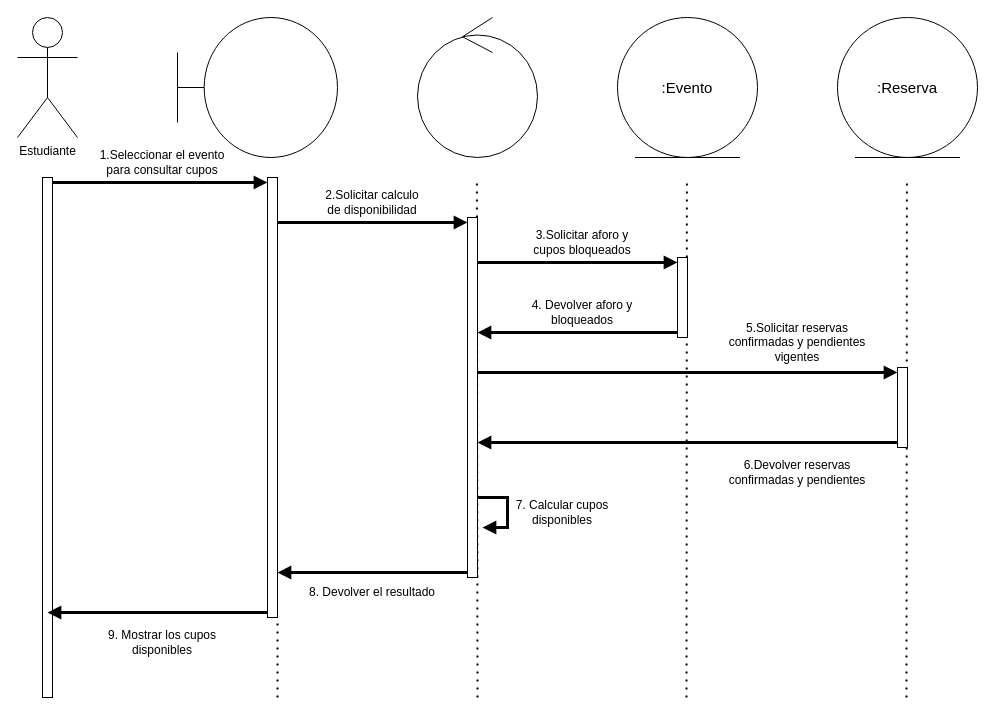
The diagram is 995 pixels wide and 717 high, and some of its shapes have lost their labels. The shapes that lost their labels are listed below. From the top down, each one's box as (x1, y1, x2, y2) in pixels, then its label:
(176, 16, 338, 158): :PantallaEvento
(416, 16, 538, 158): :Calculo Disponibilidad
